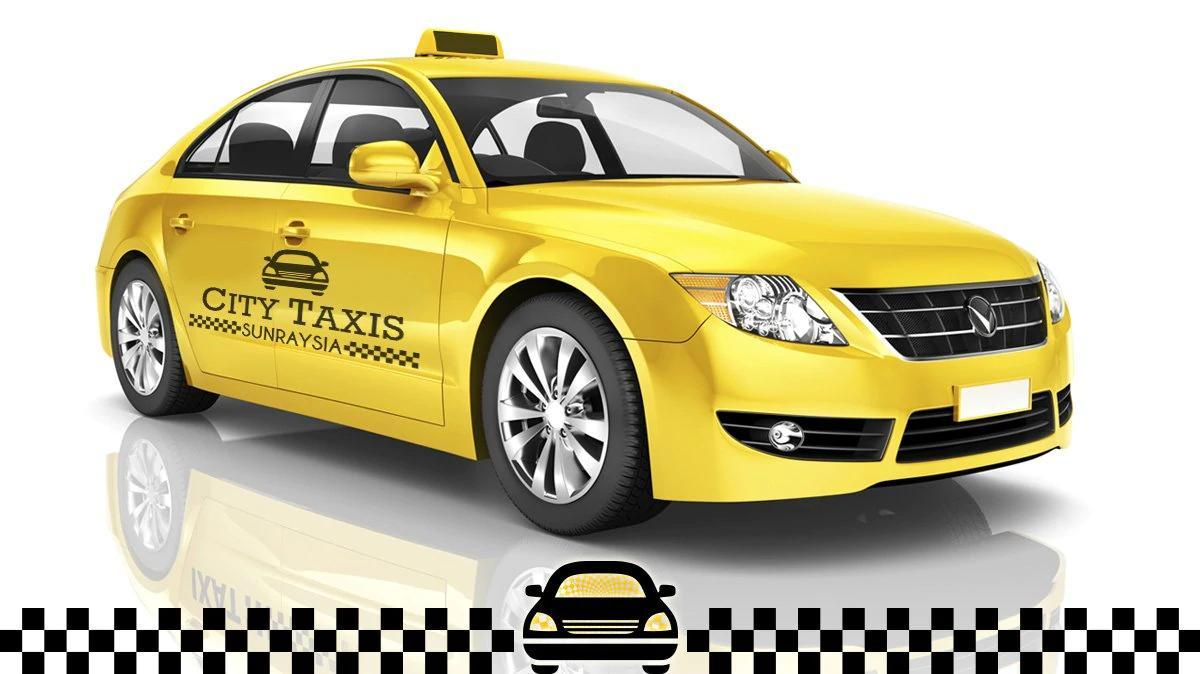taxi: (74, 21, 1104, 560)
